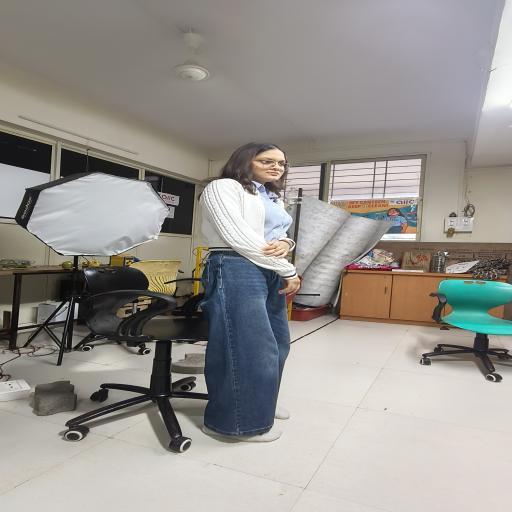survivor: (197, 142, 303, 444)
